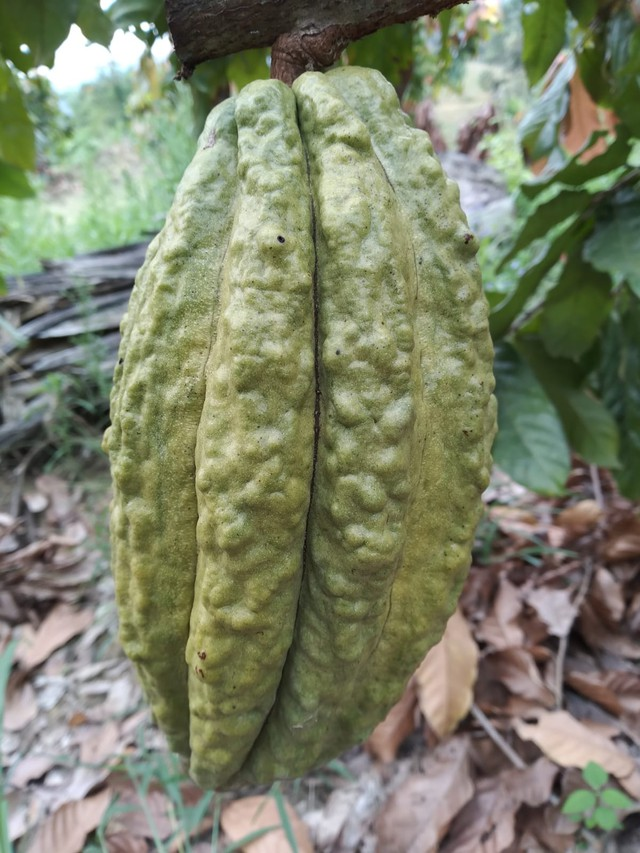Health: (86, 60, 509, 800)
